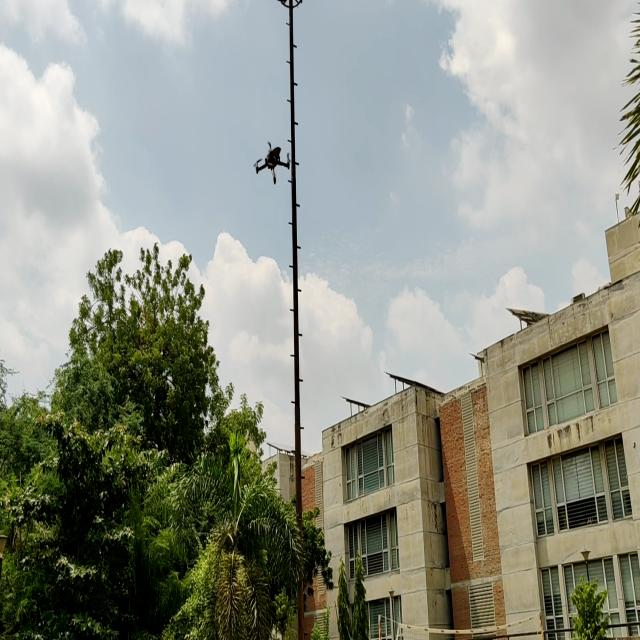drone: (252, 137, 292, 183)
